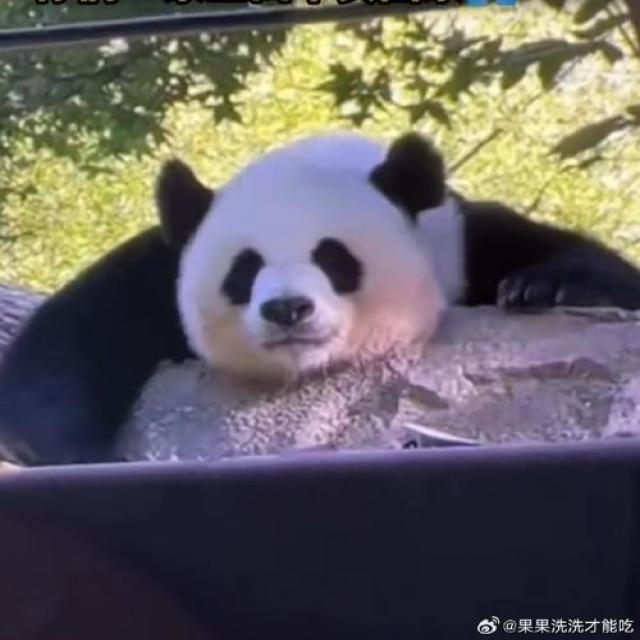panda: (29, 88, 569, 496)
